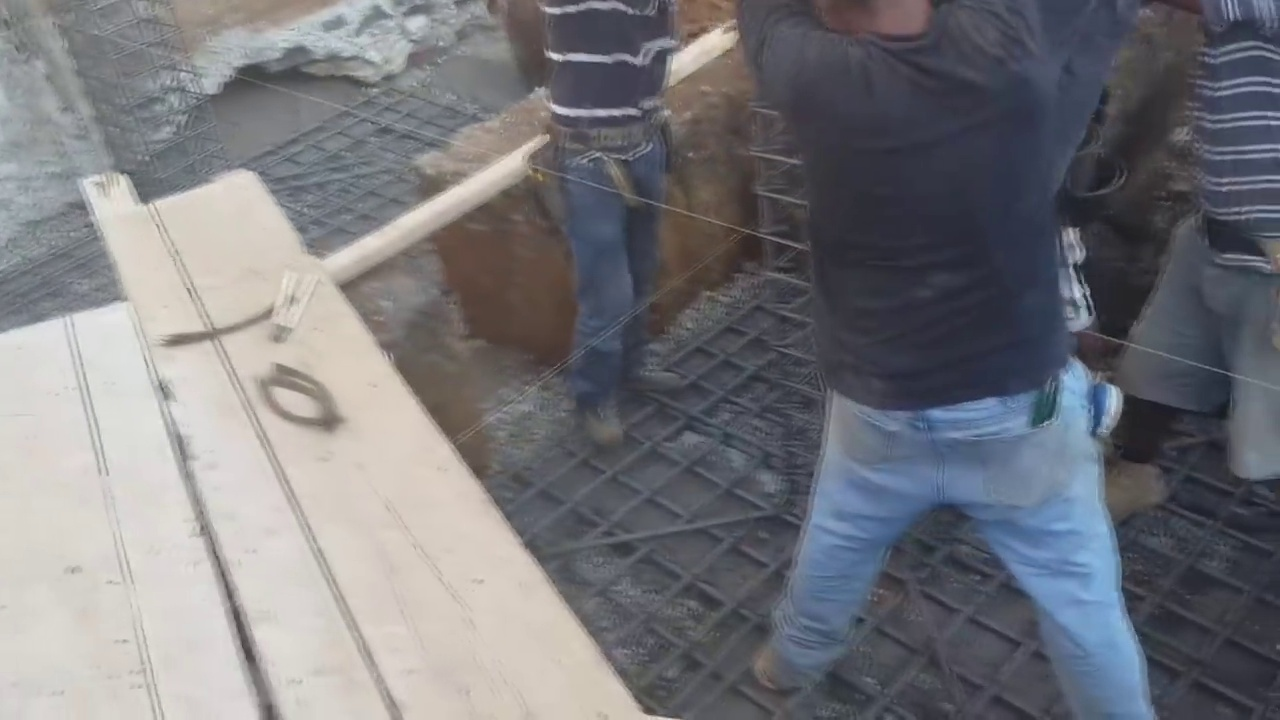person: (727, 0, 1171, 701), (1087, 0, 1280, 527), (507, 0, 697, 454)
